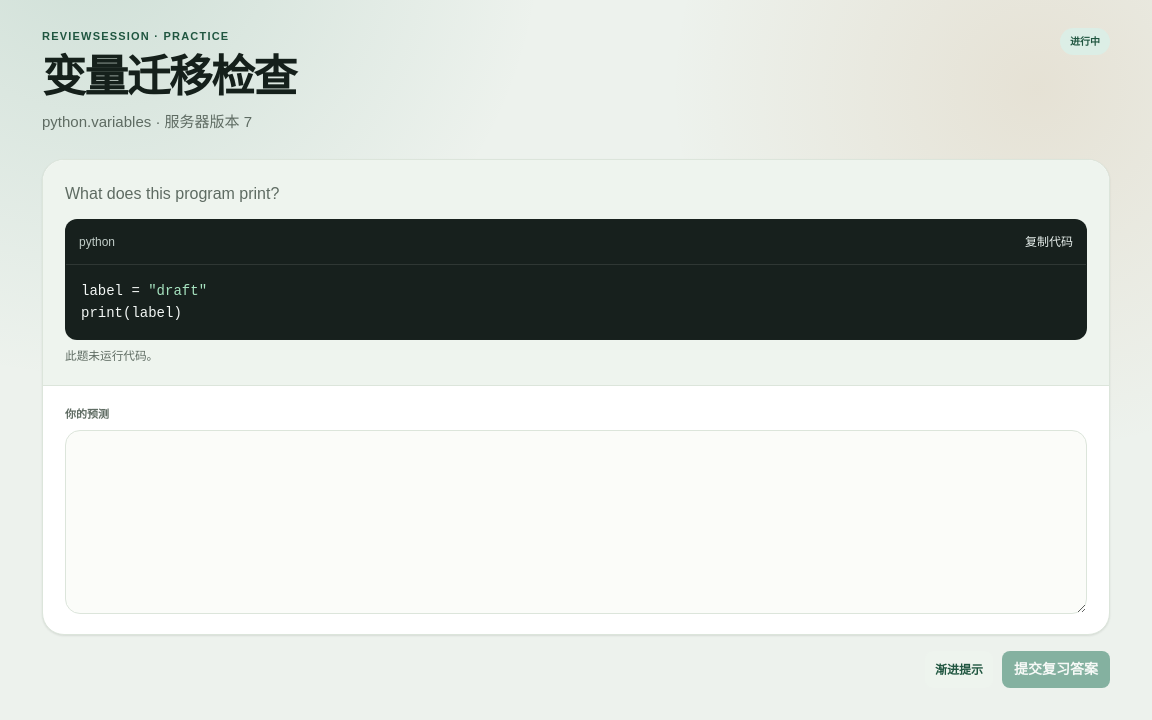
Scenario: ReviewSessionPanel knowledge prompts › clears the previous answer when the existing exercise-version transition occurs
Check: the button "提交复习答案" is shown, box [1002, 651, 1110, 688]
Type "old response" into the text box labelled "你的预测" at (576, 522), box [65, 430, 1087, 614]
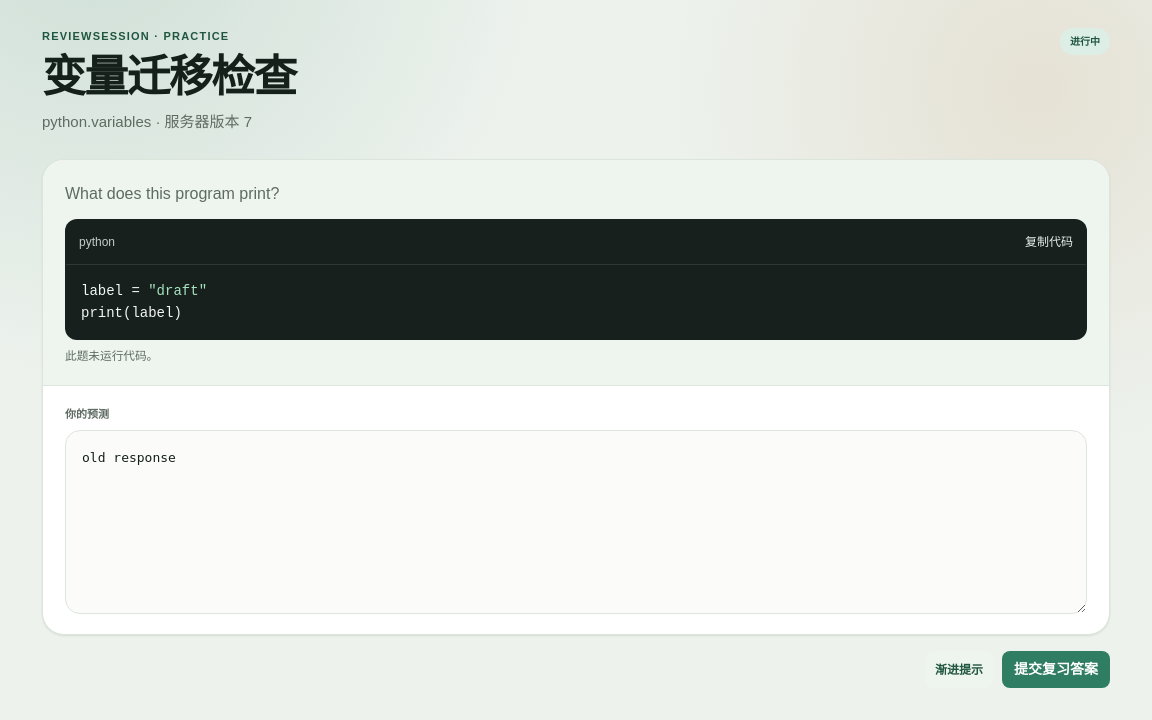
Click the button "渐进提示" at (959, 670), box [925, 651, 993, 688]
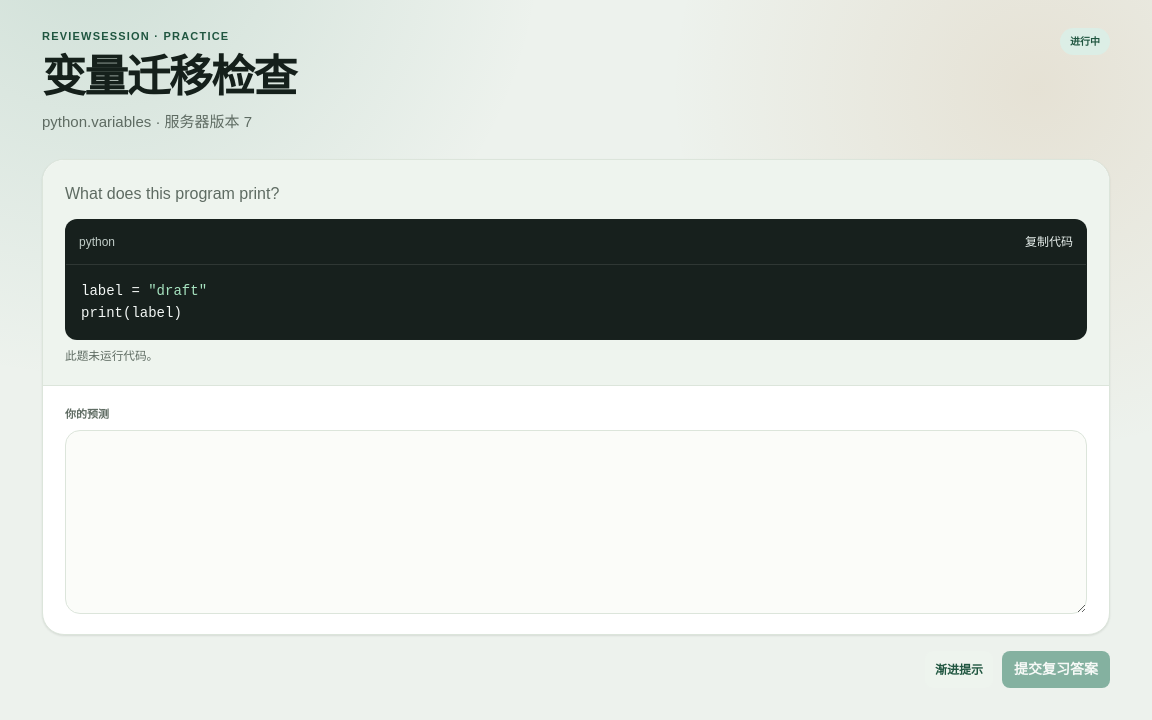
Check: the text box labelled "你的预测" is empty, box [65, 430, 1087, 614]
Check: the button "提交复习答案" is disabled, box [1002, 651, 1110, 688]
